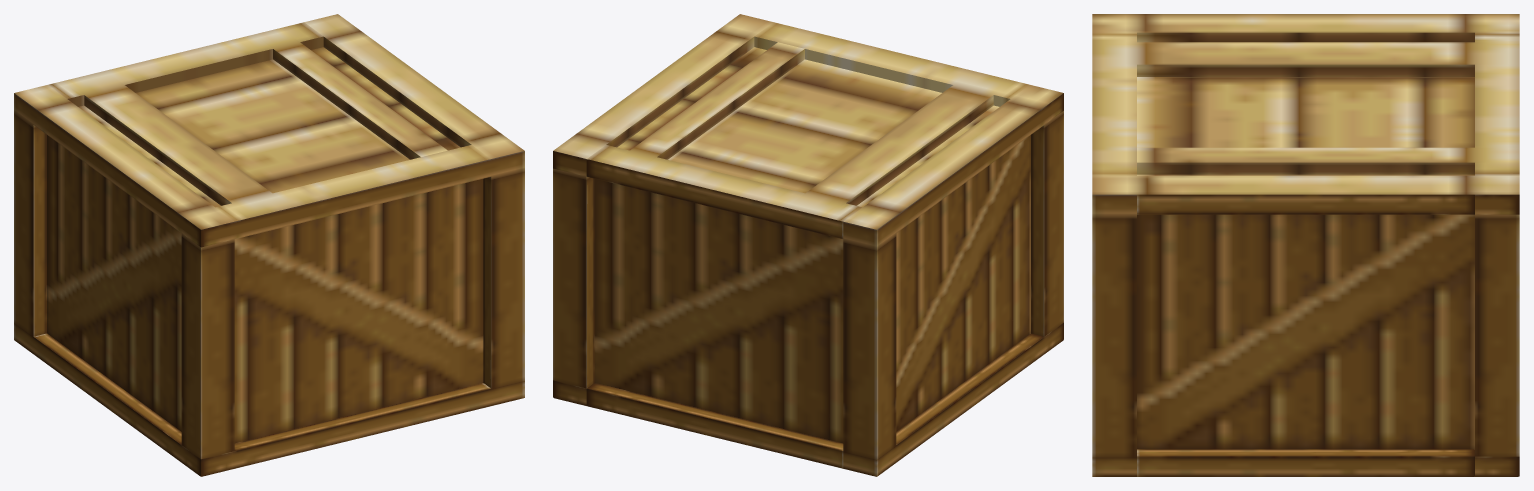
The model's file is Inside_Poly_Crate_Big_01.obj.
3 renders of one model, left to right at view 1: azimuth 30°, elevation 25°; view 2: azimuth 150°, elevation 25°; view 3: azimuth 270°, elevation 25°, orthographic. The views are drawn at different scales.
Visible parts, largest first — view 1: Cube; view 2: Cube; view 3: Cube.
Part boxes in pixels (x1,y1,x2,y2): Cube: (14,14,524,476); Cube: (553,14,1063,476); Cube: (1092,14,1519,476).
Bounding box in the file's own units: 0.96 × 0.7 × 0.96.
1 material, 1 textured.
